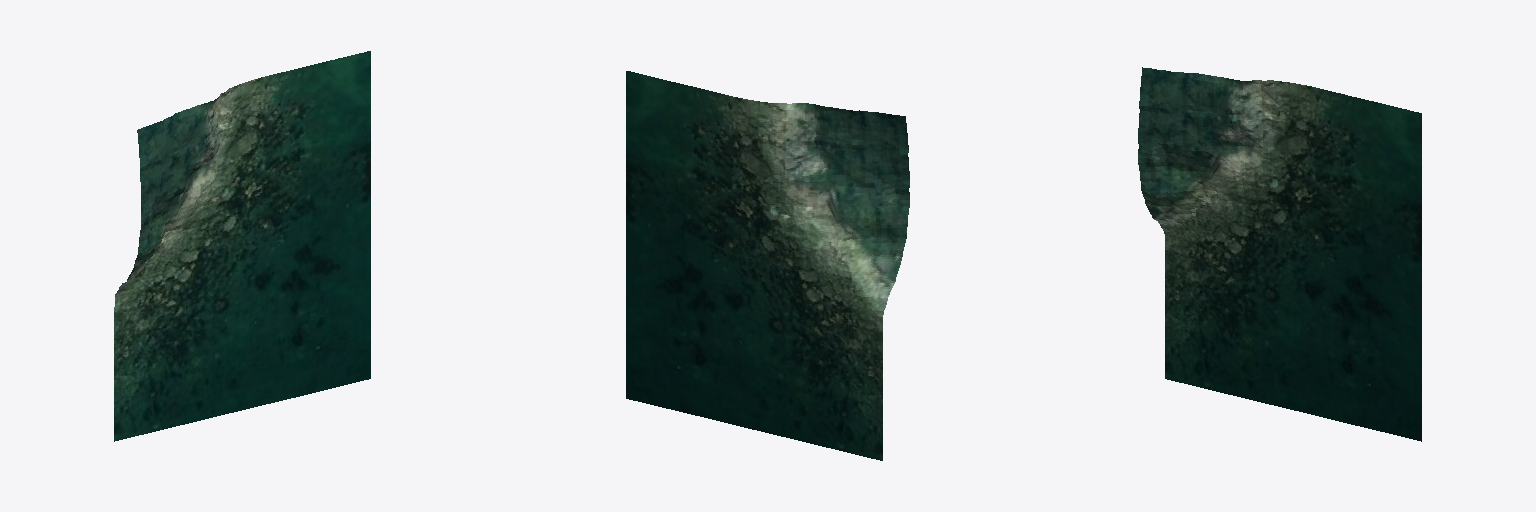
3 views of the same model, side by side, from view 1: azimuth 30°, elevation 25°; view 2: azimuth 150°, elevation 25°; view 3: azimuth 330°, elevation 25° (orthographic).
Parts seen in each view (by area): view 1: 281399_113918; view 2: 281399_113918; view 3: 281399_113918.
Boxes of the visible parts, x1=… form: 281399_113918: x1=114, y1=51, x2=370, y2=441; 281399_113918: x1=626, y1=71, x2=909, y2=460; 281399_113918: x1=1138, y1=67, x2=1421, y2=441.
Size of the model in its own units: 122 by 150 by 22.65.
Materials: 1 (1 with a texture image).